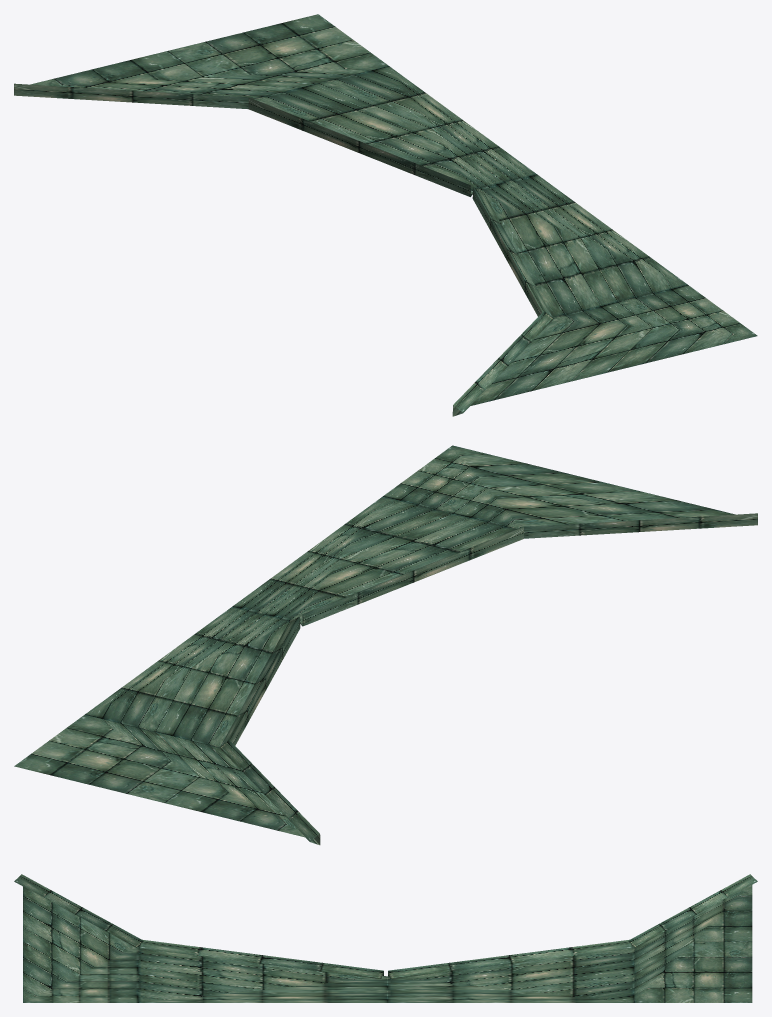
File: Dach_Abschluß_375.glb
3 views of the same model, one above another, from view 1: azimuth 30°, elevation 25°; view 2: azimuth 150°, elevation 25°; view 3: azimuth 270°, elevation 25° (orthographic). The views are drawn at different scales.
Parts seen in each view (by area): view 1: pPlaneShape2, pCylinderShape1, pCylinderShape2, pCylinderShape3, pCylinderShape4; view 2: pPlaneShape2, pCylinderShape4, pCylinderShape3, pCylinderShape2, pCylinderShape1; view 3: pPlaneShape2, pCylinderShape2, pCylinderShape3, pCylinderShape4, pCylinderShape1.
Part boxes in pixels (box(x1,y1,x2,y2)): pPlaneShape2: box(30, 14, 757, 409); pCylinderShape1: box(14, 83, 252, 108); pCylinderShape2: box(248, 97, 473, 196); pCylinderShape3: box(472, 187, 552, 317); pCylinderShape4: box(452, 311, 553, 416); pPlaneShape2: box(14, 445, 735, 839); pCylinderShape4: box(519, 513, 757, 538); pCylinderShape3: box(299, 527, 523, 626); pCylinderShape2: box(221, 616, 300, 745); pCylinderShape1: box(219, 740, 320, 845); pPlaneShape2: box(23, 884, 752, 1002); pCylinderShape2: box(388, 939, 632, 979); pCylinderShape3: box(139, 939, 383, 979); pCylinderShape4: box(14, 874, 143, 947); pCylinderShape1: box(628, 874, 757, 947).
Bounding box in the file's own units: 1.01 × 0.0375 × 2.58.
5 materials, 5 textured.
